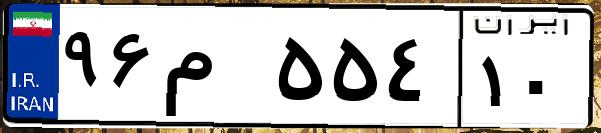0: (525, 38, 570, 115)
1: (475, 38, 525, 113)
4: (385, 28, 445, 110)
5: (270, 28, 330, 110), (330, 28, 385, 110)
6: (110, 28, 158, 98)
9: (57, 26, 110, 100)
م: (158, 20, 270, 120)
